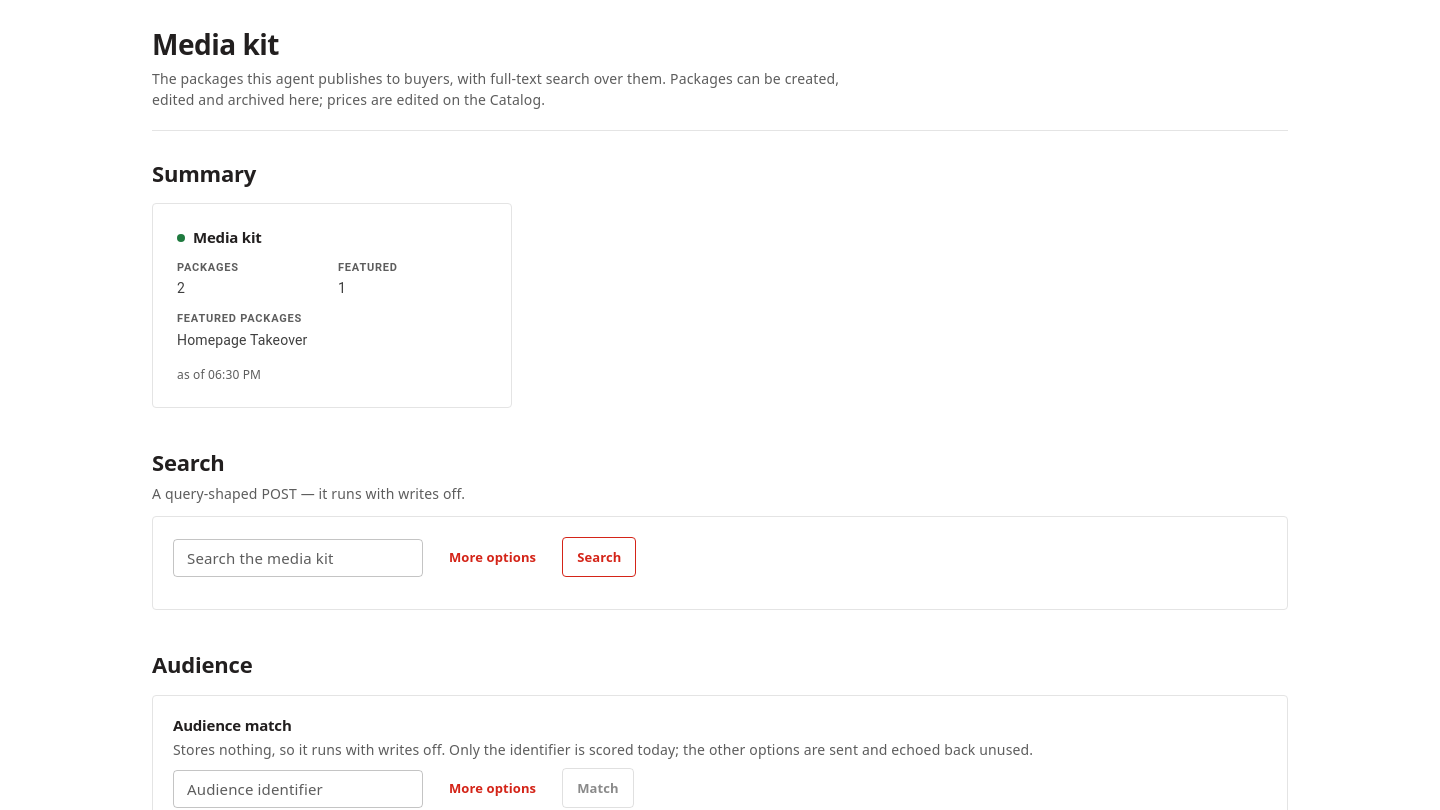
Test: the media kit screen › shows the gated notice when the search is rejected
This screenshot has width=1440, height=810.
In the field labelled "Search the media kit": (298, 558) [173, 538, 423, 577], type "homepage"
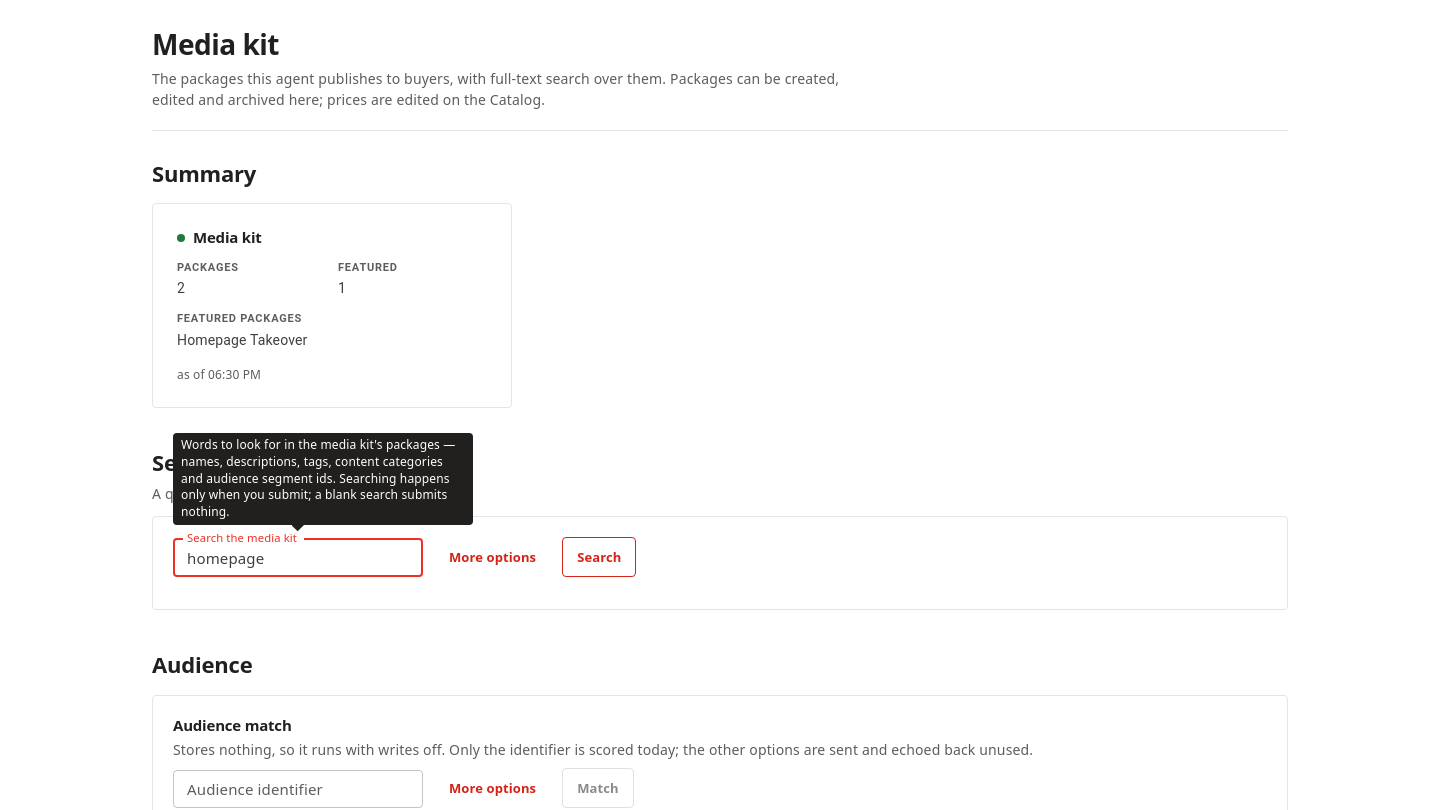
Click the button "Search": (599, 557) [562, 537, 636, 577]
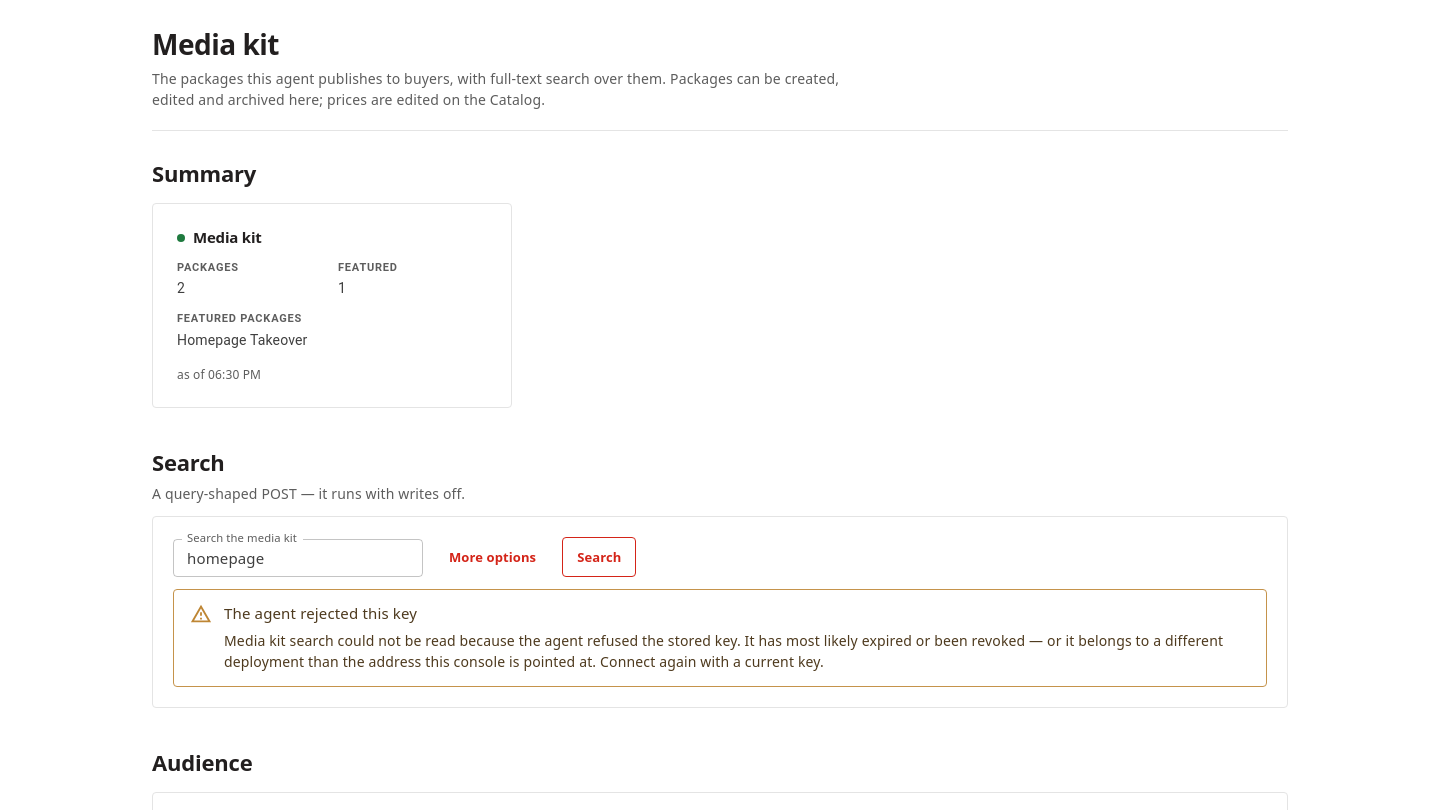
Check: the message is shown, box [173, 589, 1267, 687]
